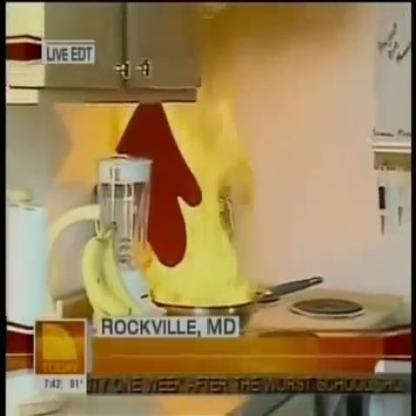fire: (121, 90, 256, 306)
